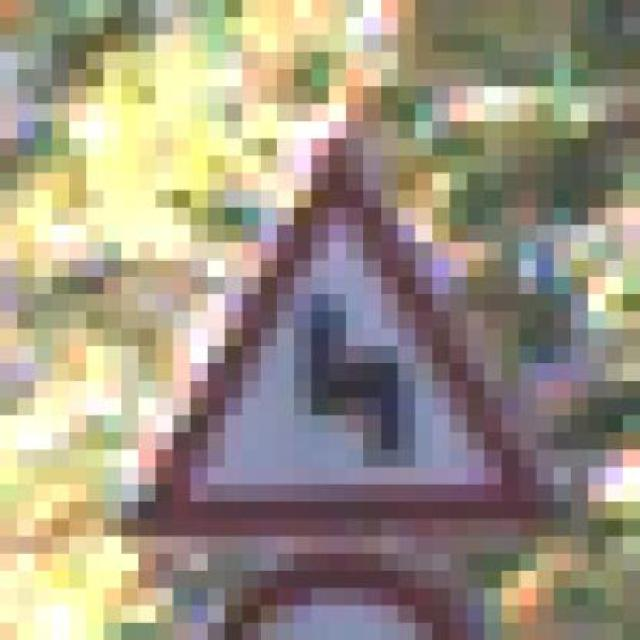Left Zig Zag Traffic: (86, 121, 571, 553)
